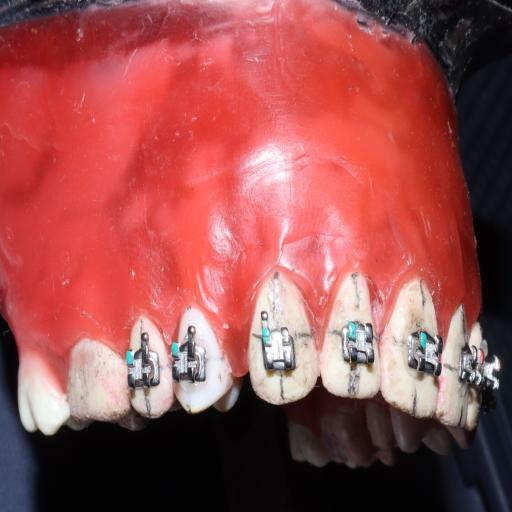incorrect_brace: (322, 272, 380, 402), (260, 320, 297, 380), (340, 317, 376, 365)
